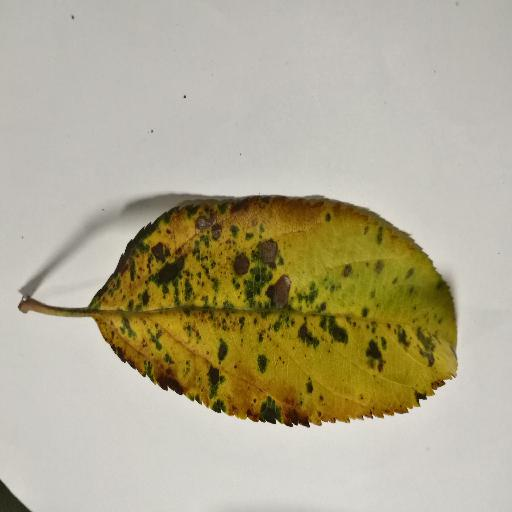Brown_Spot: (122, 235, 427, 419)
